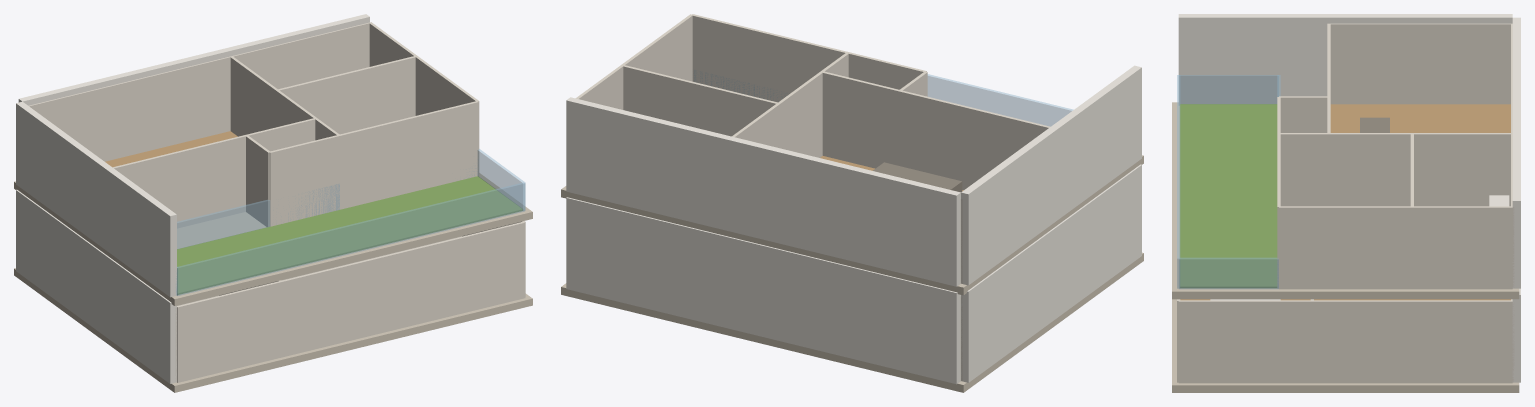
File: garden-2.glb
3 renders of one model, left to right at view 1: azimuth 30°, elevation 25°; view 2: azimuth 150°, elevation 25°; view 3: azimuth 270°, elevation 25°, orthographic. The views are drawn at different scales.
Visible parts, largest first — view 1: level-main, level-lower, floor-garden, slab (×2), floor-living; view 2: level-main, level-lower, slab (×2); view 3: level-main, level-lower, floor-garden, slab (×2), floor-living, floor-bed2.
Part boxes in pixels (x1,y1,x2,y2): level-main: [16, 14, 525, 297]; level-lower: [16, 189, 525, 383]; floor-garden: [177, 176, 522, 294]; slab (×2): [14, 173, 532, 392]; floor-living: [105, 131, 237, 167]; level-main: [566, 14, 1141, 286]; level-lower: [566, 164, 1141, 384]; slab (×2): [561, 155, 1143, 392]; level-main: [1177, 14, 1520, 289]; level-lower: [1177, 288, 1520, 383]; floor-garden: [1179, 104, 1277, 288]; slab (×2): [1172, 102, 1519, 392]; floor-living: [1330, 104, 1510, 132]; floor-bed2: [1314, 299, 1510, 300].
Size of the model in its own units: 13.45 by 6.25 by 10.45.
